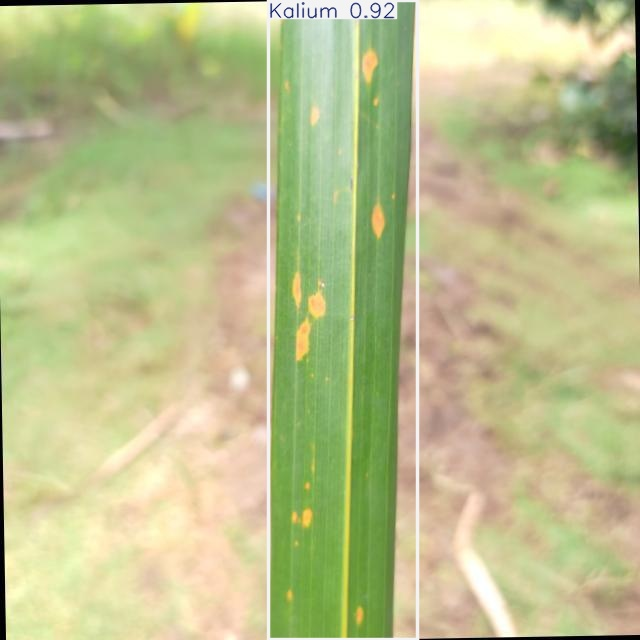Kalium: (268, 1, 417, 640)
